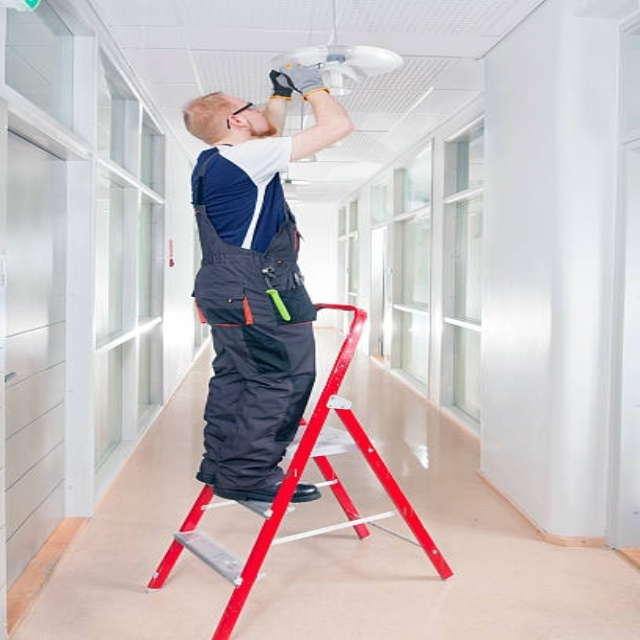Gafas: (228, 102, 254, 130)
Guantes: (271, 63, 327, 98)
